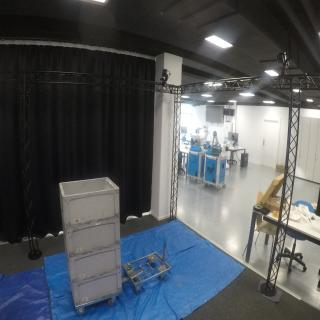Box4G: (60, 178, 122, 229), (62, 217, 123, 261), (65, 244, 123, 285)
